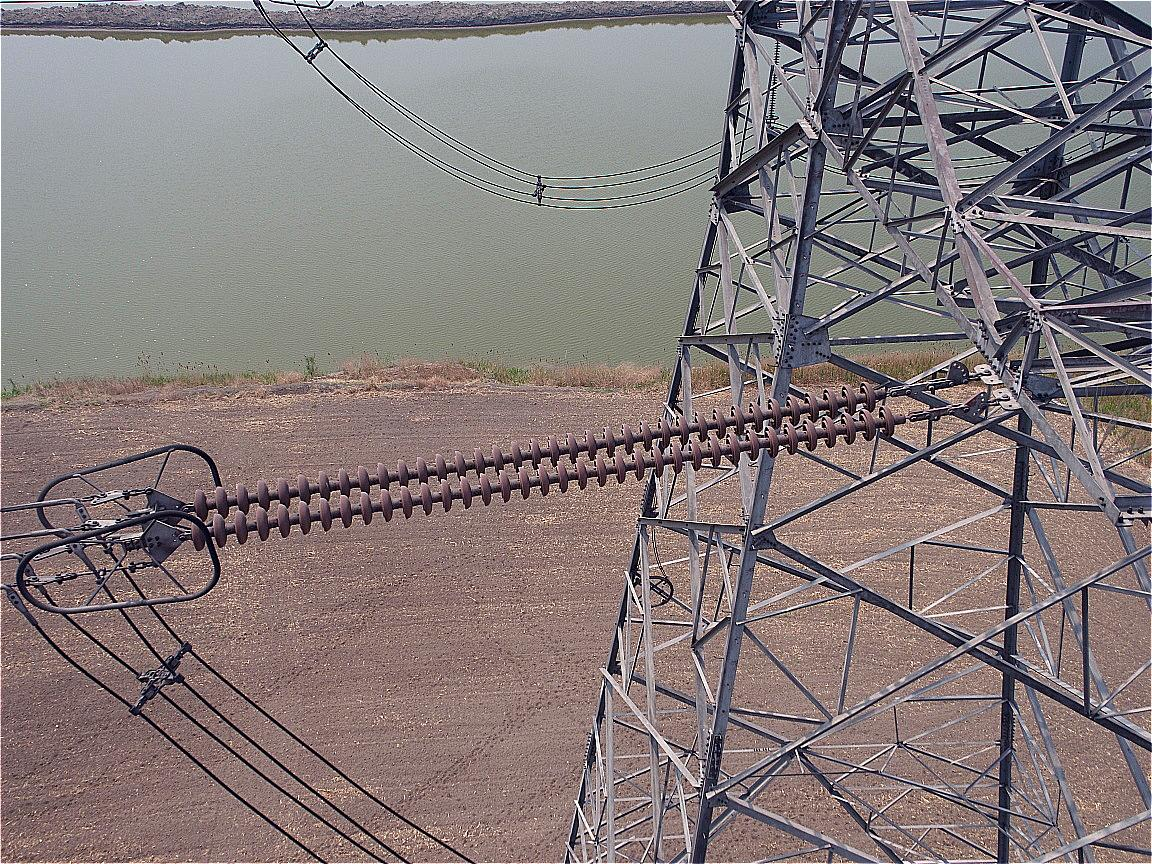insultor1: (189, 381, 895, 552)
